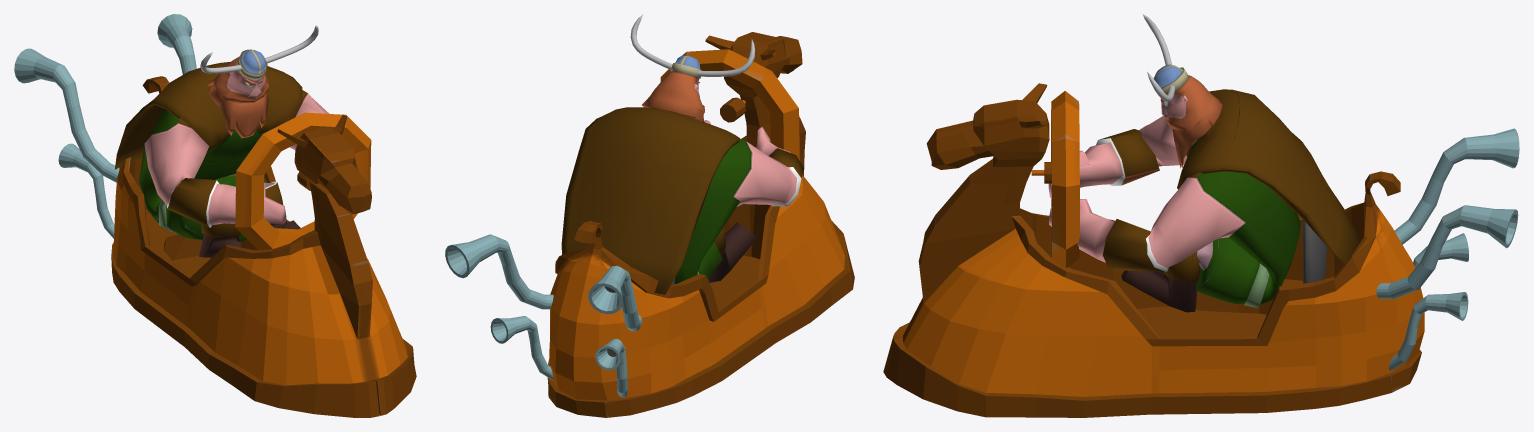
File: vikingoVacile_000480.obj
The picture shows the model from 3 angles, left to right: view 1: azimuth 30°, elevation 25°; view 2: azimuth 150°, elevation 25°; view 3: azimuth 270°, elevation 25°; orthographic projection. The views are drawn at different scales.
Parts seen in each view (by area): view 1: kartVikingo, Vikingo; view 2: kartVikingo, Vikingo; view 3: kartVikingo, Vikingo.
Boxes of the visible parts, bbox=[...] form: kartVikingo: bbox=[14, 14, 416, 417]; Vikingo: bbox=[115, 25, 329, 257]; kartVikingo: bbox=[445, 32, 854, 417]; Vikingo: bbox=[561, 14, 803, 294]; kartVikingo: bbox=[883, 83, 1519, 417]; Vikingo: bbox=[1048, 14, 1359, 312].
Bounding box in the file's own units: 4.13 × 5.93 × 10.31.
